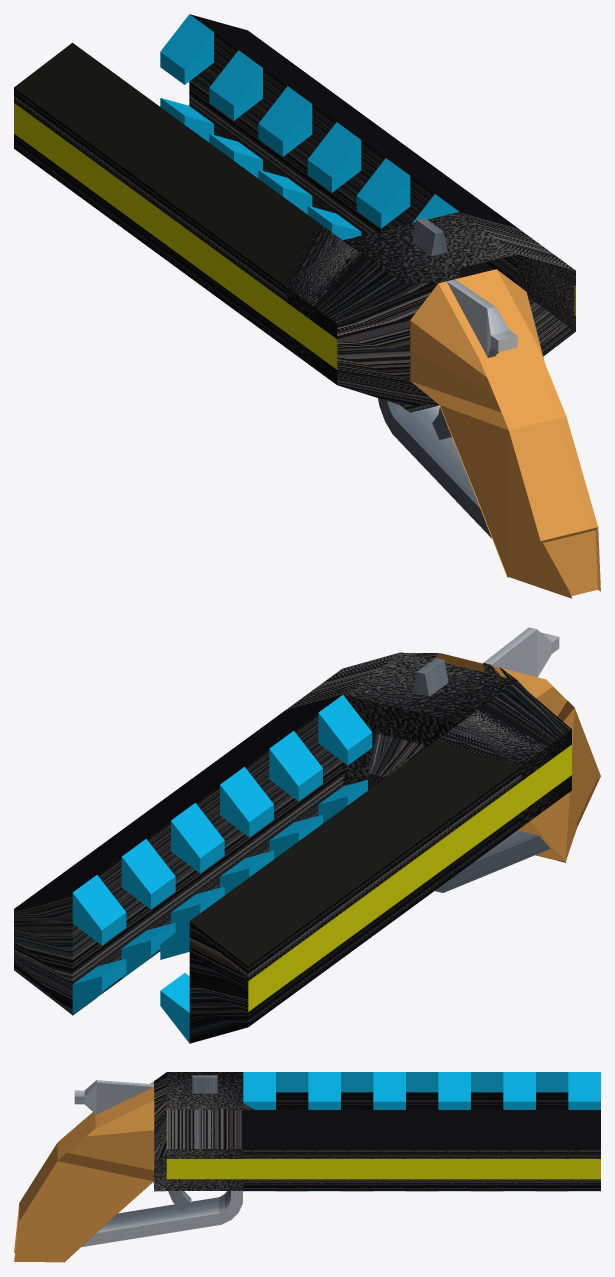
The model's file is RAILGUNfbx.fbx.
3 renders of one model, top to bottom at view 1: azimuth 30°, elevation 25°; view 2: azimuth 150°, elevation 25°; view 3: azimuth 270°, elevation 25°, orthographic. The views are drawn at different scales.
Parts seen in each view (by area): view 1: Handrail; view 2: Handrail; view 3: Handrail.
Boxes of the visible parts, left/top/right/bottom form: Handrail: left=14, top=14, right=600, bottom=598; Handrail: left=14, top=627, right=600, bottom=1043; Handrail: left=14, top=1072, right=600, bottom=1262.
Bounding box in the file's own units: 400 × 437 × 1313.
